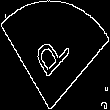P_SW: (33, 25, 77, 85)
